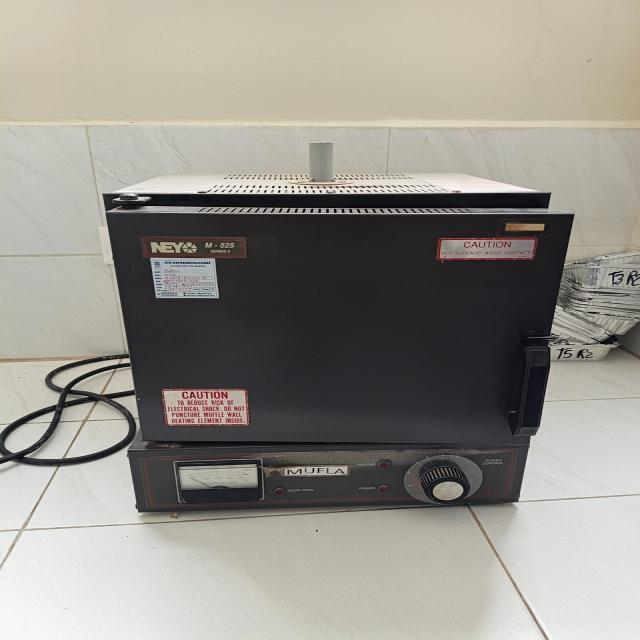Mufla Electrica de Laboratorio: (103, 144, 573, 513)
